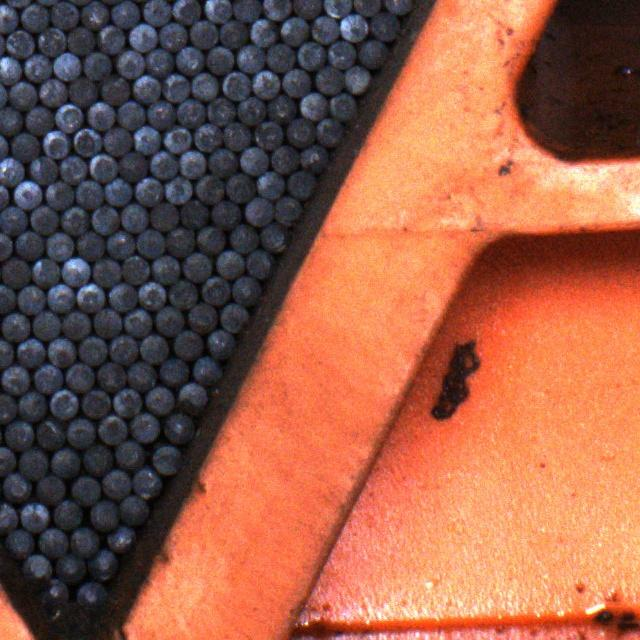tool: (18, 447, 47, 480), (118, 494, 148, 524), (244, 196, 274, 226), (49, 447, 78, 478), (97, 414, 126, 445), (163, 412, 192, 443), (178, 382, 207, 413), (118, 151, 147, 182), (357, 40, 388, 69), (222, 70, 250, 102), (23, 554, 52, 584), (77, 581, 106, 611), (88, 549, 118, 578), (56, 552, 85, 582), (114, 441, 144, 470), (3, 420, 32, 450), (65, 418, 94, 448), (97, 362, 126, 392), (155, 306, 184, 336), (188, 303, 217, 333), (183, 252, 212, 282), (119, 202, 148, 232), (146, 100, 175, 130), (10, 132, 39, 162), (84, 445, 112, 476), (34, 363, 62, 394), (32, 310, 60, 341), (90, 204, 118, 235), (211, 200, 239, 231), (75, 282, 104, 311), (168, 280, 197, 309), (61, 257, 90, 286), (286, 118, 315, 147), (12, 180, 41, 209), (5, 529, 33, 559), (144, 386, 174, 414), (93, 308, 121, 338), (231, 276, 261, 304), (151, 254, 179, 284), (31, 258, 59, 288), (2, 258, 30, 288), (105, 230, 135, 258), (166, 227, 194, 257), (273, 196, 301, 226), (222, 121, 250, 151), (369, 12, 399, 40), (340, 13, 368, 43), (49, 388, 76, 419), (102, 469, 130, 498), (35, 475, 64, 503), (2, 473, 30, 502), (113, 388, 141, 417), (18, 391, 46, 420), (1, 365, 29, 394), (65, 363, 93, 392), (173, 330, 202, 358), (139, 334, 167, 363), (61, 311, 90, 339), (17, 285, 45, 314), (92, 258, 120, 287), (15, 231, 44, 259), (76, 232, 105, 260), (196, 226, 225, 254), (230, 224, 258, 253), (29, 205, 57, 234), (149, 202, 177, 231), (287, 170, 315, 199), (26, 106, 54, 135), (116, 100, 144, 129), (194, 122, 222, 151), (29, 155, 57, 184), (45, 181, 74, 209), (226, 173, 254, 202), (315, 66, 344, 94), (281, 68, 310, 96), (251, 70, 280, 98), (20, 501, 47, 531), (129, 413, 159, 440), (109, 282, 136, 312), (180, 199, 207, 229), (40, 577, 66, 608), (70, 528, 98, 556), (52, 500, 80, 528), (70, 476, 98, 504), (152, 446, 180, 474), (36, 421, 64, 449), (82, 390, 110, 418), (127, 362, 155, 390), (160, 358, 188, 386), (202, 276, 230, 304), (176, 98, 204, 126), (298, 92, 326, 120), (209, 148, 237, 176), (195, 175, 223, 203), (328, 40, 356, 68), (128, 22, 156, 50), (6, 29, 34, 57), (116, 50, 144, 78), (52, 52, 80, 80), (208, 329, 235, 358), (2, 312, 29, 341), (221, 303, 248, 332), (247, 249, 274, 278), (216, 250, 243, 279), (61, 206, 88, 235), (267, 94, 294, 123), (89, 153, 116, 182), (300, 144, 327, 173), (90, 500, 116, 530), (133, 468, 159, 498), (138, 280, 164, 310), (137, 228, 163, 258), (316, 118, 342, 148), (40, 528, 67, 556), (106, 526, 134, 553), (193, 356, 220, 384), (109, 336, 136, 364), (78, 336, 105, 364), (17, 338, 44, 366), (87, 101, 114, 129), (207, 97, 234, 125), (237, 97, 265, 124), (254, 121, 281, 149), (103, 127, 130, 155), (150, 150, 177, 178), (240, 146, 267, 174), (271, 146, 299, 173), (76, 180, 103, 208), (134, 177, 161, 205), (81, 1, 108, 29), (175, 46, 202, 74), (144, 49, 172, 76), (132, 75, 160, 102), (68, 78, 95, 106), (124, 308, 150, 337), (122, 255, 148, 284), (60, 155, 86, 184), (40, 78, 66, 107), (220, 21, 247, 48), (48, 338, 74, 366), (48, 283, 74, 311), (46, 232, 72, 260), (260, 223, 286, 251), (0, 206, 26, 234), (330, 92, 356, 120), (162, 126, 190, 152), (133, 125, 159, 153), (164, 176, 190, 204), (256, 170, 282, 198), (52, 1, 78, 29), (38, 28, 64, 56), (281, 17, 307, 45), (267, 43, 293, 71), (101, 78, 129, 104), (24, 54, 50, 82), (74, 128, 100, 155), (21, 5, 48, 31), (112, 1, 138, 28), (190, 21, 217, 47), (312, 17, 338, 44), (298, 42, 324, 69), (237, 45, 263, 72), (162, 74, 188, 101), (82, 53, 109, 79), (56, 104, 81, 132), (180, 150, 205, 178), (105, 177, 130, 205), (344, 65, 369, 93), (160, 23, 185, 51), (250, 18, 275, 46), (42, 130, 66, 159), (97, 26, 123, 52), (68, 28, 94, 54), (207, 46, 232, 73), (143, 0, 171, 24), (192, 72, 216, 100), (173, 0, 200, 24), (0, 157, 22, 186), (10, 82, 34, 108), (232, 0, 260, 22), (204, 0, 230, 22), (0, 106, 20, 134), (0, 54, 20, 82), (0, 502, 17, 534), (262, 0, 290, 19), (323, 0, 351, 17), (294, 0, 320, 18), (0, 446, 15, 476), (0, 4, 16, 31), (0, 394, 14, 423), (0, 284, 14, 312), (352, 0, 378, 15), (384, 0, 411, 14), (0, 340, 12, 368), (0, 232, 11, 260)
